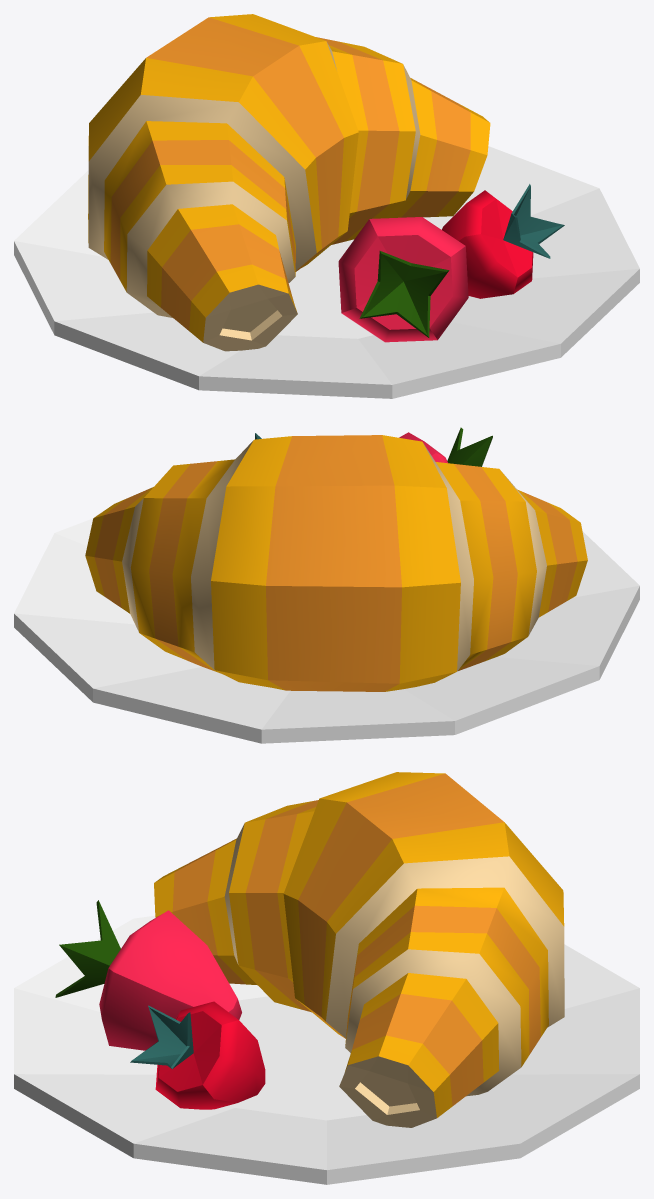
File: PW_croissant_toserve.fbx
The picture shows the model from 3 angles, top to bottom: view 1: azimuth 30°, elevation 25°; view 2: azimuth 150°, elevation 25°; view 3: azimuth 270°, elevation 25°; orthographic projection. The views are drawn at different scales.
Visible parts, largest first — view 1: croissant, plate, strawberry02, strawberry01; view 2: croissant, plate, strawberry02; view 3: croissant, plate, strawberry02, strawberry01.
Part boxes in pixels (box(x1,y1,x2,y2)): croissant: box(88, 14, 490, 351); plate: box(14, 146, 639, 398); strawberry02: box(338, 217, 468, 342); strawberry01: box(442, 184, 564, 298); croissant: box(85, 435, 587, 691); plate: box(14, 518, 639, 743); strawberry02: box(399, 427, 492, 466); croissant: box(154, 772, 564, 1127); plate: box(14, 915, 639, 1184); strawberry02: box(55, 900, 241, 1050); strawberry01: box(130, 1001, 265, 1109).
Bounding box in the file's own units: 50.02 × 21.2 × 47.57.
Materials: 1 (1 with a texture image).
